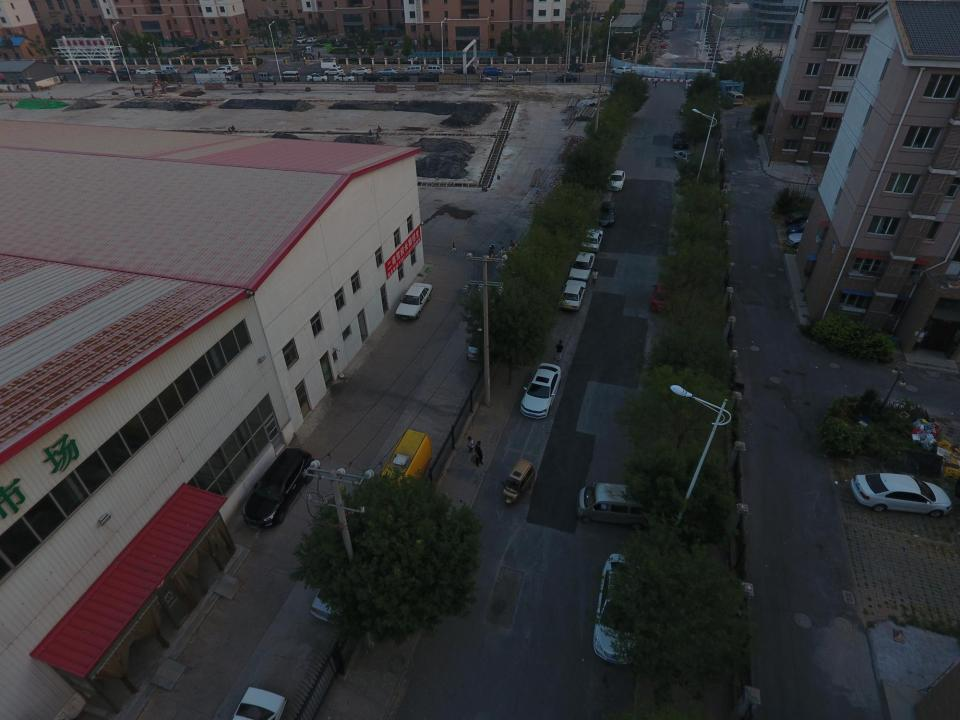car: (593, 552, 650, 666), (241, 448, 314, 528), (850, 474, 952, 518), (312, 554, 373, 624), (577, 483, 654, 532), (520, 362, 561, 419), (228, 686, 288, 718), (466, 315, 496, 369), (395, 282, 432, 320), (558, 280, 586, 311), (650, 280, 675, 312), (569, 252, 595, 282), (786, 232, 826, 250), (580, 228, 603, 253), (596, 200, 616, 228), (785, 211, 821, 226), (787, 222, 822, 235), (674, 150, 699, 168), (606, 170, 625, 190), (672, 131, 689, 149), (453, 66, 476, 76), (235, 73, 256, 82), (482, 67, 503, 76), (555, 74, 578, 82), (566, 62, 584, 72), (611, 66, 631, 75), (680, 102, 695, 114), (307, 73, 329, 81), (362, 74, 384, 82), (388, 73, 410, 81), (418, 74, 440, 82), (334, 74, 355, 82), (377, 68, 399, 75), (473, 74, 492, 82), (323, 68, 344, 75), (350, 68, 371, 75), (514, 68, 533, 75), (497, 75, 515, 82), (685, 82, 695, 90)
truck: (376, 430, 432, 506), (674, 1, 684, 17)
van: (724, 90, 743, 105), (320, 62, 341, 72), (280, 71, 300, 81), (404, 66, 422, 76), (297, 46, 313, 57), (428, 64, 445, 74), (258, 72, 274, 81), (209, 40, 224, 49)
